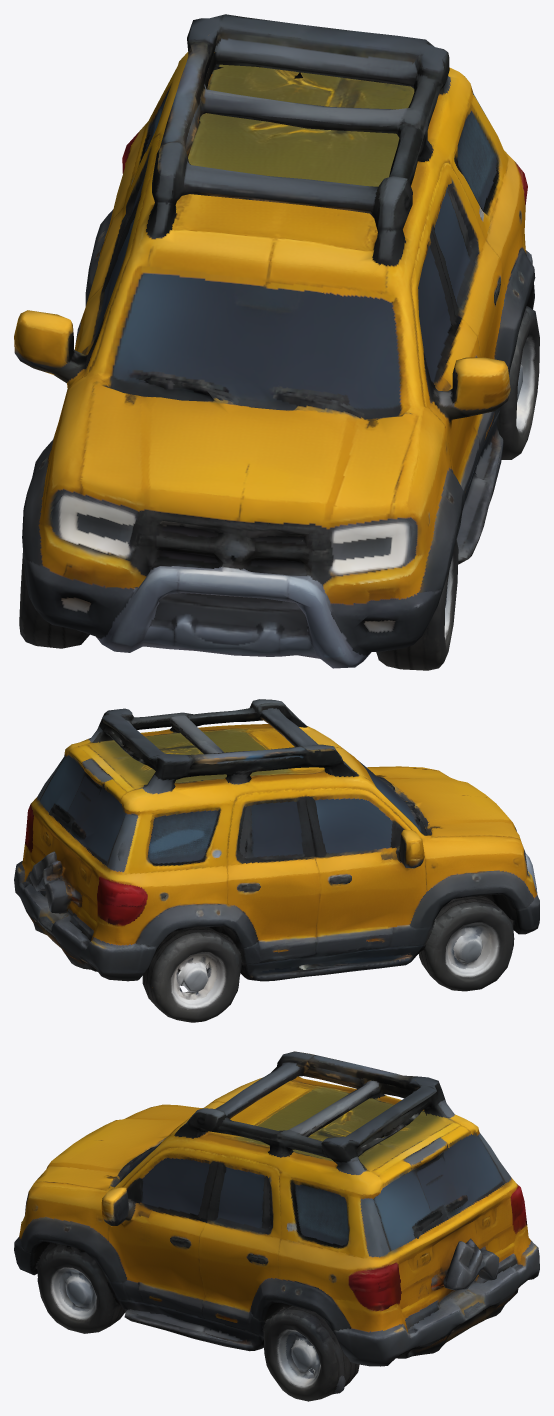
The model's file is NPC_FamilySUV_00001.glb.
3 views of the same model, one above another, from view 1: azimuth 30°, elevation 25°; view 2: azimuth 150°, elevation 25°; view 3: azimuth 270°, elevation 25° (orthographic). The views are drawn at different scales.
Size of the model in its own units: 0.8972 by 0.5406 by 0.9685.
1 material, 1 textured.
